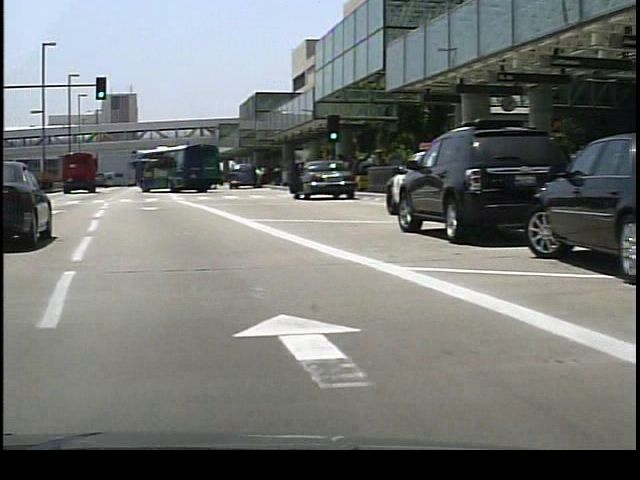person: (247, 165, 258, 189)
